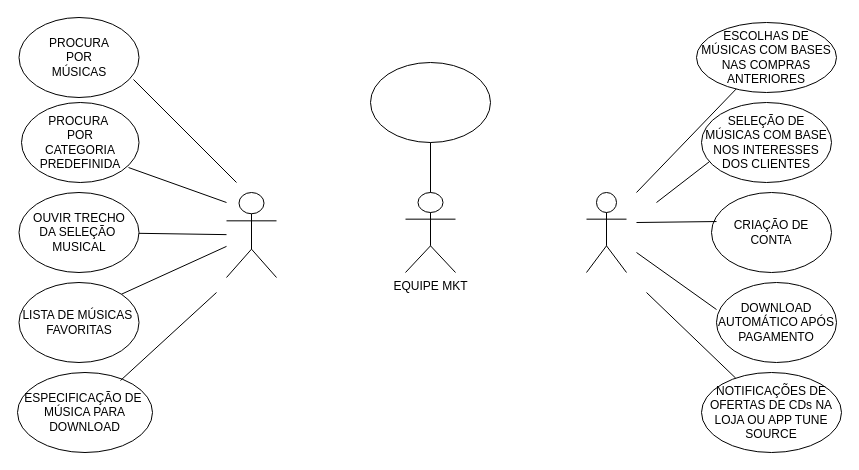
Image size: 859x470. Some labels were removed from this diagram. The centre of each missing label's shape, as x and y in pixels:
"CLIENTE" belongs at point 251,235.
"CRIAÇÃO DE PORMOÇÕES E OFERTAS ESPECIAIS" belongs at point 430,102.
"SISTEMA" belongs at point 606,232.
